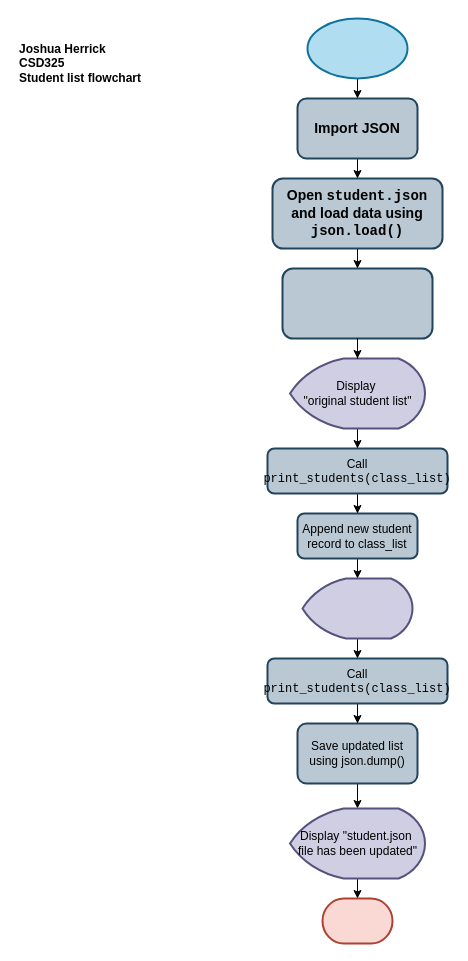
Image size: 468x961. Some labels were removed from this diagram. Here are the shapes that lost their labels. From the top down, the centre of each, then its label:
pixel 357 48: START
pixel 357 303: Define print_students() to loop through and display each student
pixel 357 608: Display "updated student list"
pixel 357 920: END
